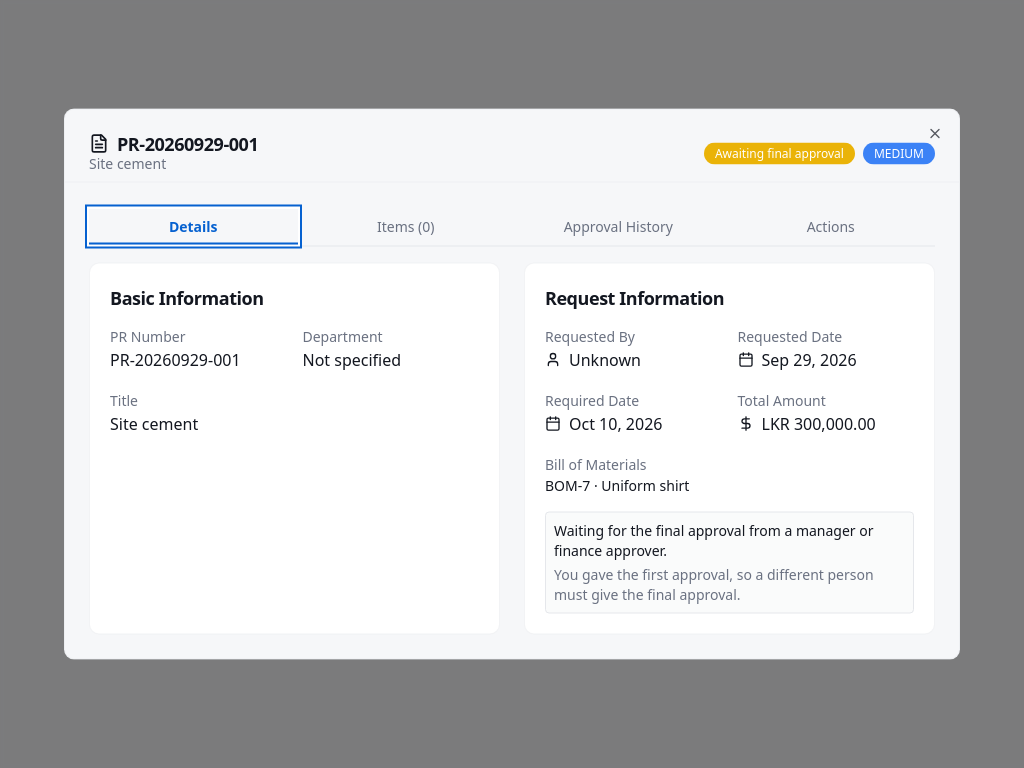
Test case: PrDetailsDialog: two approval levels › at the final stage, a refused approver sees why and no buttons
Expected: the text "Awaiting final approval" is shown, [704, 142, 855, 164]
Expected: the text "Waiting for the final approval from a manager or finance approver" is shown, [554, 520, 874, 560]
Click the tab "Actions" at (831, 226), box [726, 208, 935, 244]
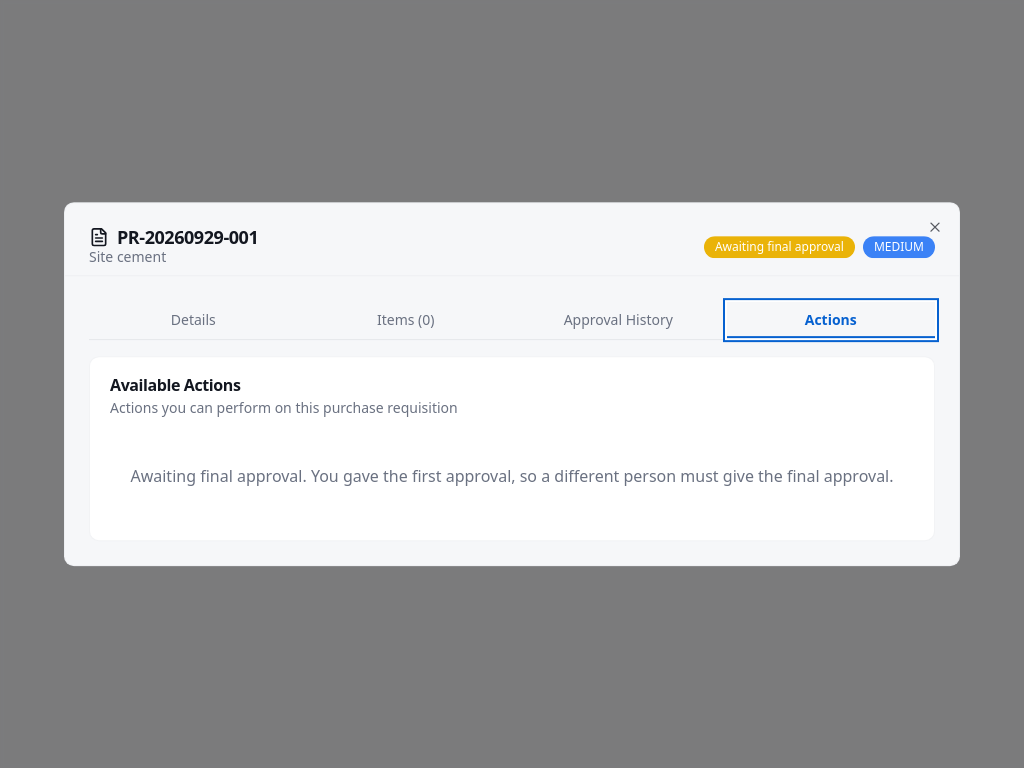
Expected: the button "approve" is not shown
Result: the text "different person must give the final approval" is shown at [130, 465, 894, 487]
